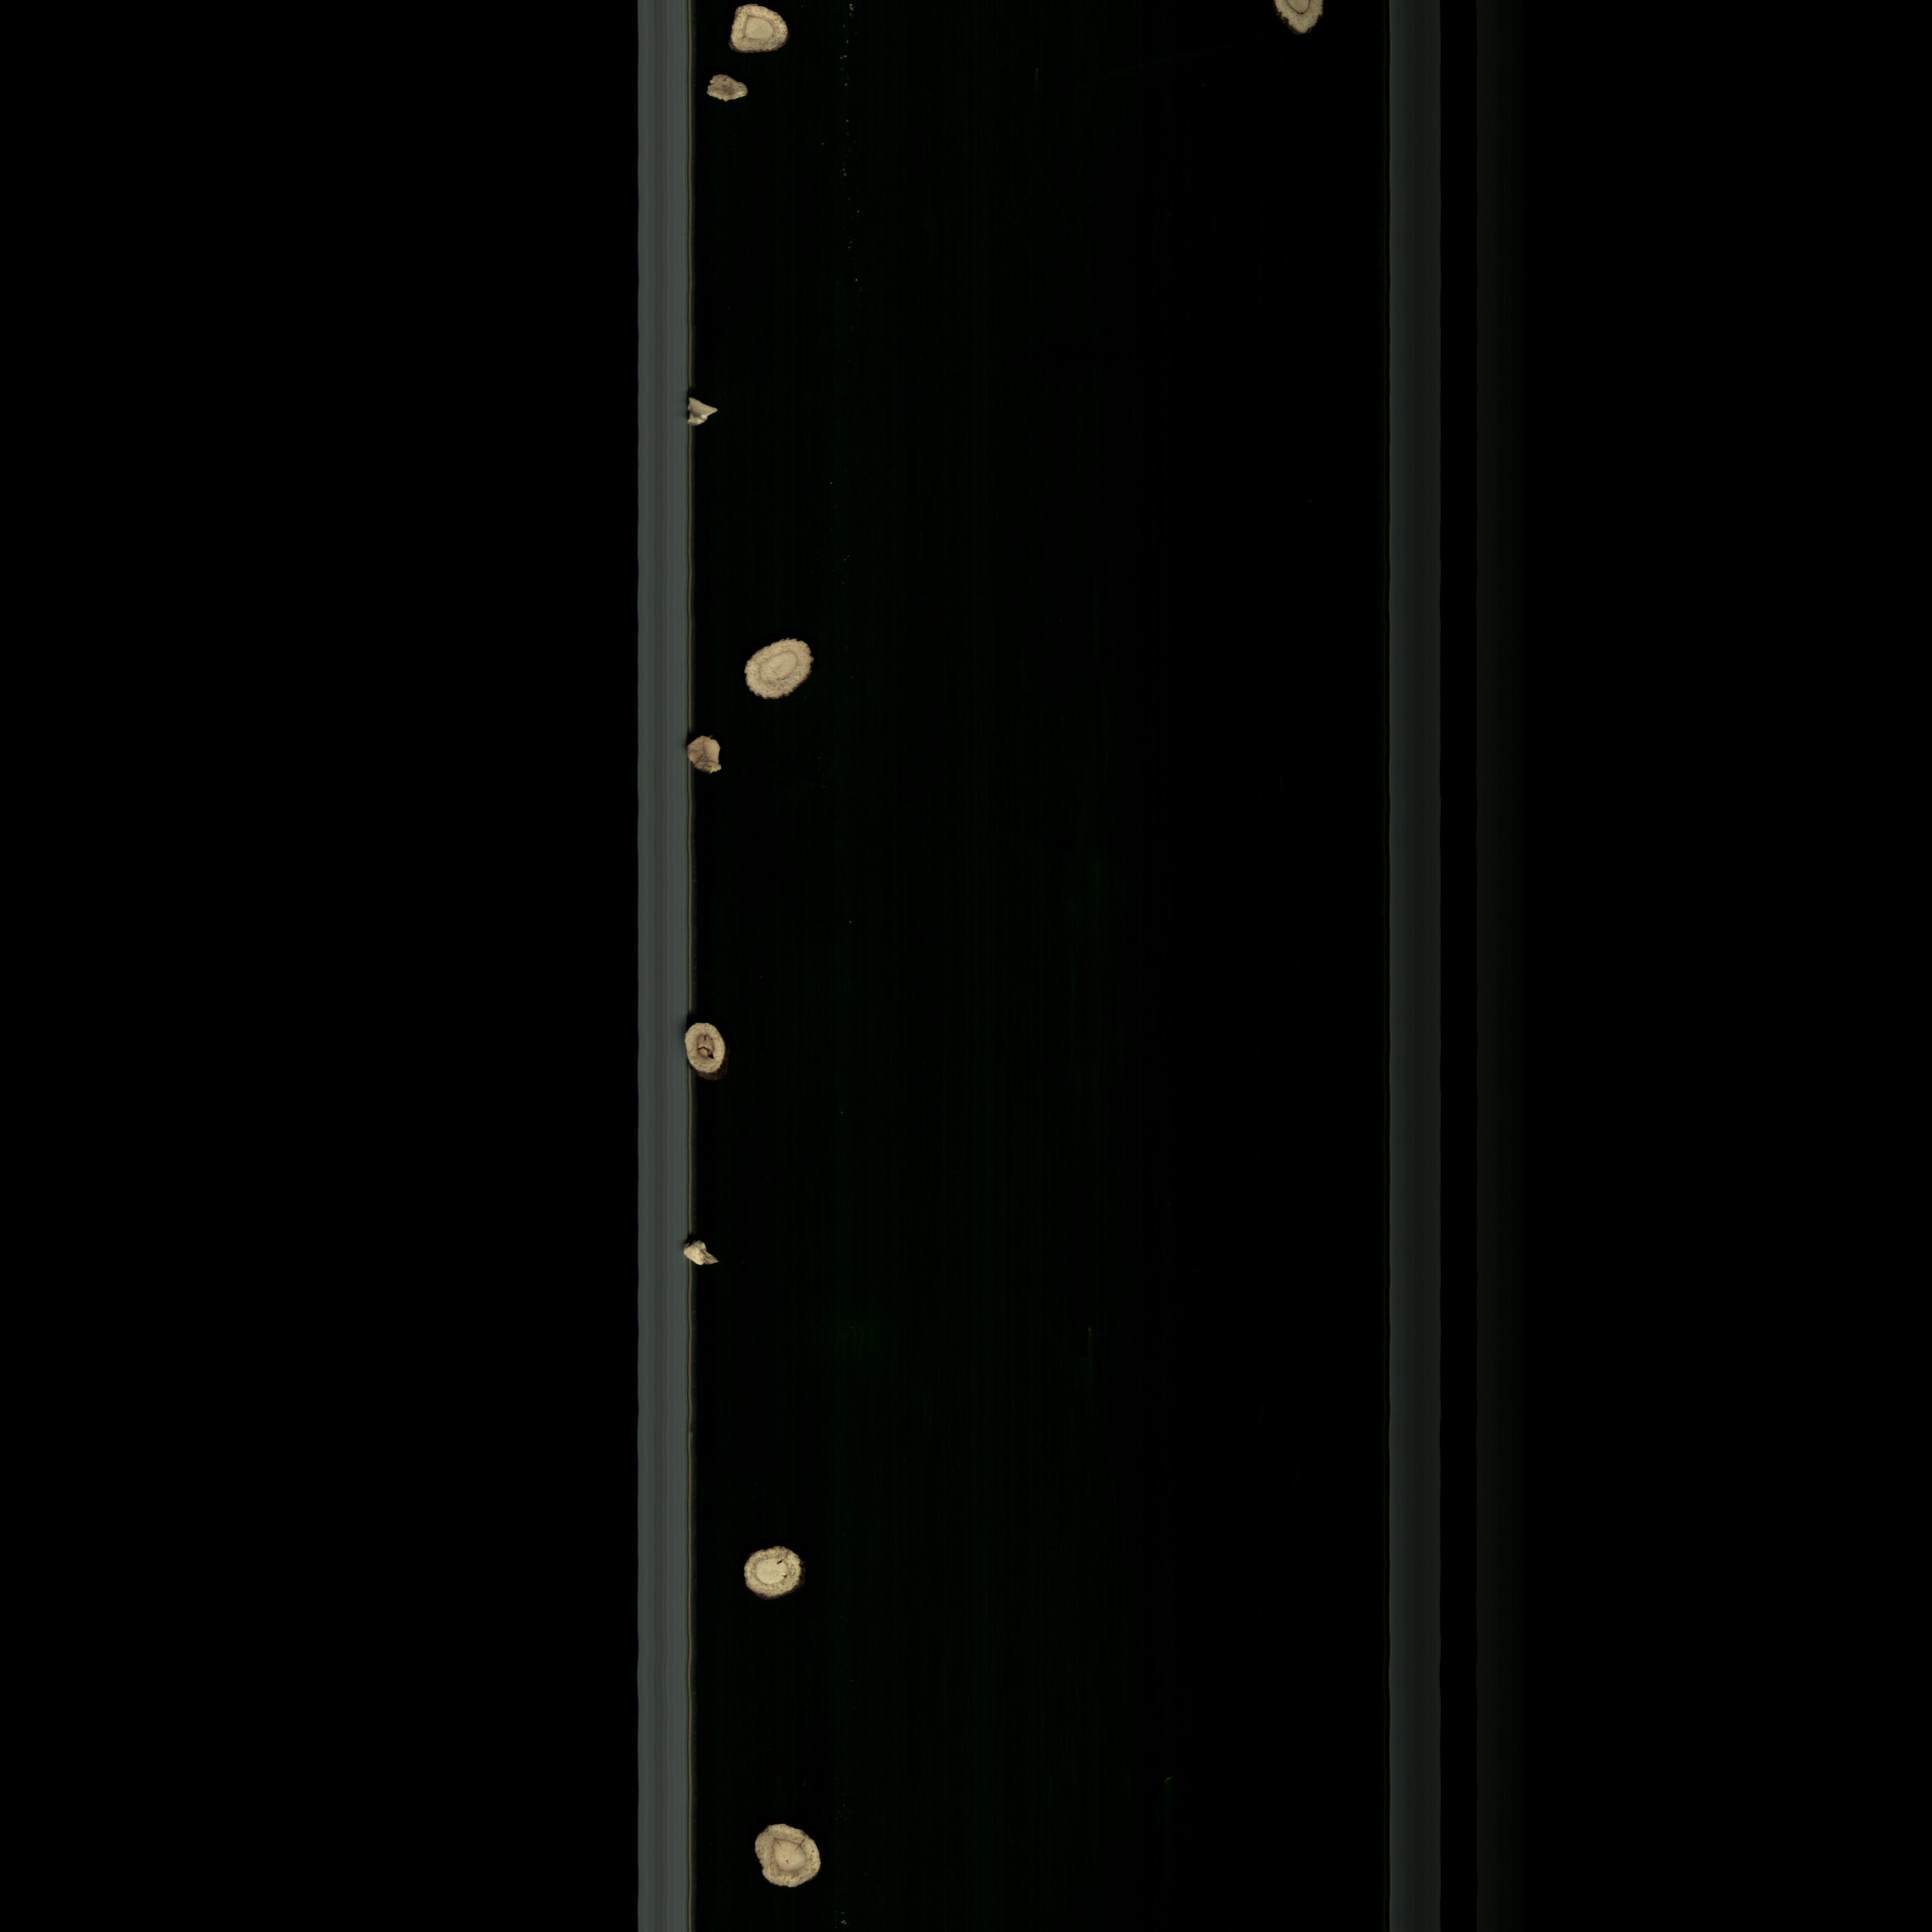dreg: (674, 1230, 738, 1277), (681, 393, 724, 435)
hole: (732, 1529, 823, 1617)
moldy: (658, 1012, 766, 1090), (676, 725, 750, 798), (1249, 0, 1346, 48), (701, 60, 761, 120)
